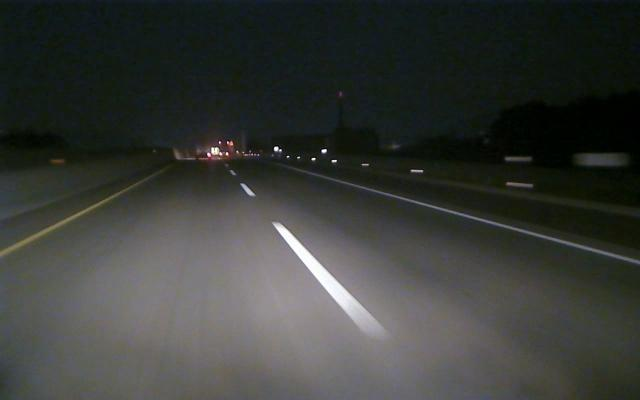lane: (299, 171, 638, 264), (240, 182, 393, 341), (1, 198, 110, 257)
